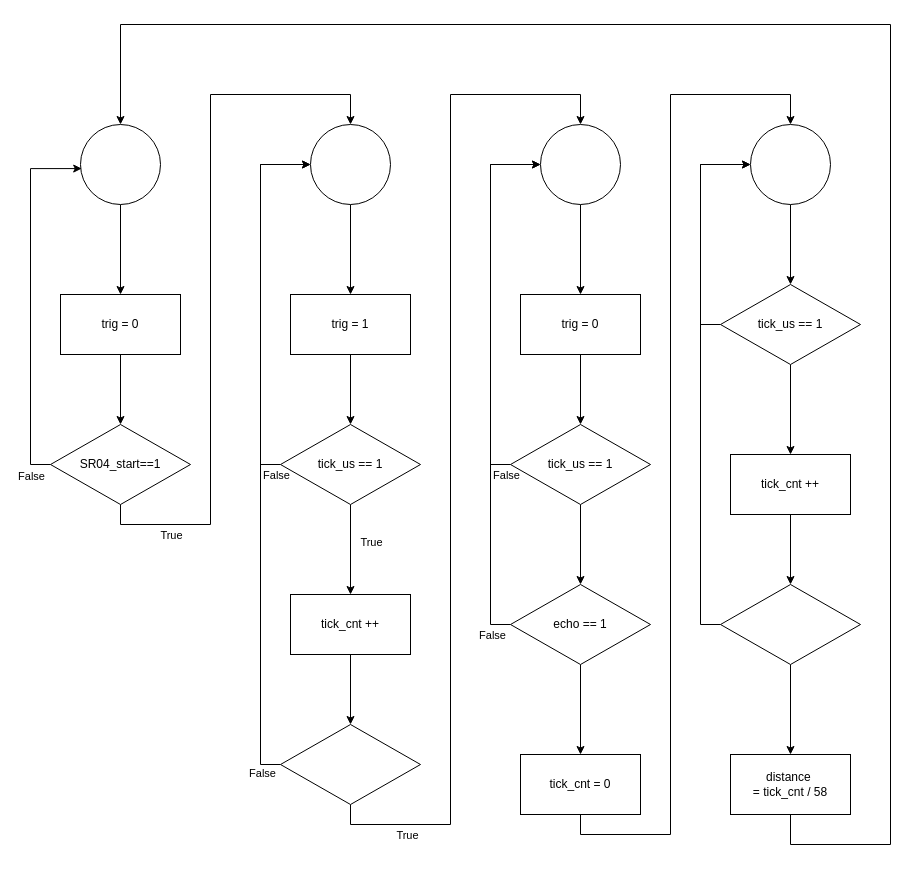
The diagram is 916 pixels wide and 870 high, and some of its shapes have lost their labels. Here are the shapes that lost their labels. From the top down, the centre of each, then its label:
(x=120, y=164): IDLE
(x=350, y=164): Start
(x=580, y=164): Wait
(x=790, y=164): response
(x=790, y=624): echo == 0
(x=350, y=764): tick_cnt >= 11
